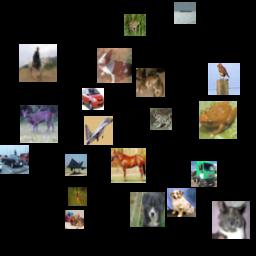airplane: (84, 116, 113, 145), (65, 154, 87, 176)
automobile: (0, 145, 29, 174), (82, 88, 104, 110)
bird: (208, 63, 240, 95)
cat: (212, 201, 250, 239), (136, 68, 165, 97)
deer: (20, 105, 58, 143), (68, 187, 87, 206)
dog: (97, 48, 132, 83), (130, 192, 165, 227), (167, 188, 196, 217), (65, 210, 84, 229)
frog: (199, 101, 237, 139), (150, 108, 172, 130), (124, 14, 146, 36)
ship: (174, 2, 196, 24)
truck: (191, 161, 217, 187)
